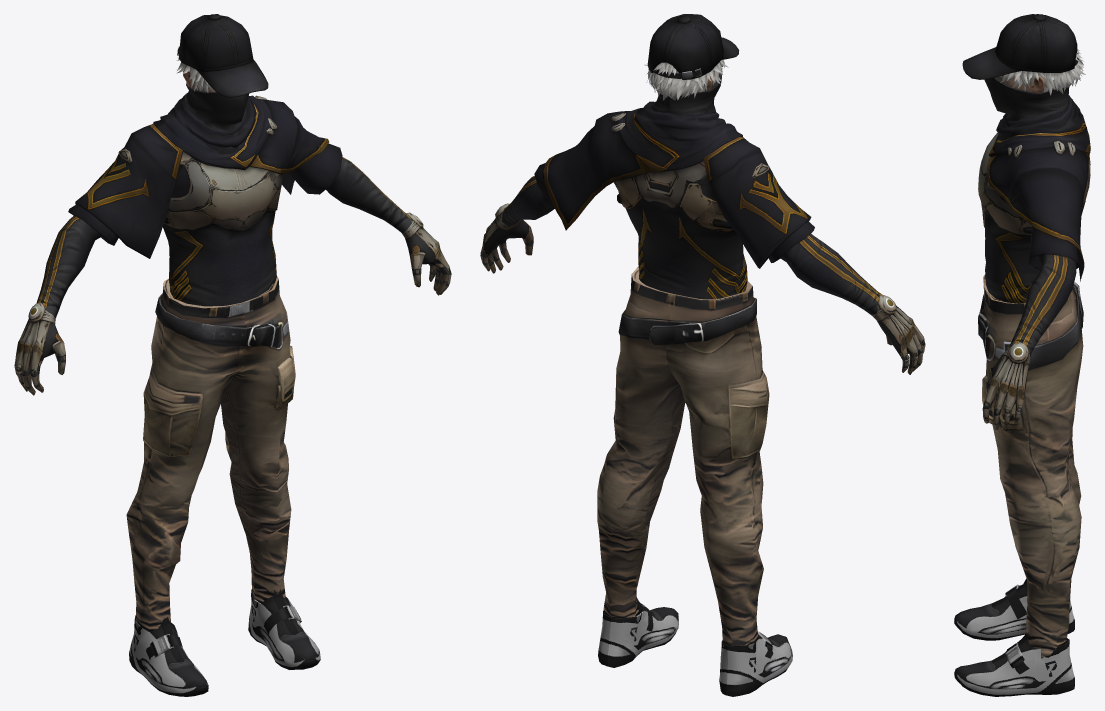
Rendered from marou friends.glb.
The picture shows the model from 3 angles, left to right: view 1: azimuth 30°, elevation 25°; view 2: azimuth 150°, elevation 25°; view 3: azimuth 270°, elevation 25°; orthographic projection.
Parts seen in each view (by area): view 1: marou friends; view 2: marou friends; view 3: marou friends.
Part boxes in pixels (left/top/right/bottom): marou friends: left=14, top=14, right=451, bottom=696; marou friends: left=480, top=14, right=925, bottom=696; marou friends: left=954, top=14, right=1090, bottom=696.
Size of the model in its own units: 0.633 by 0.9121 by 0.1748.
7 materials, 7 textured.
